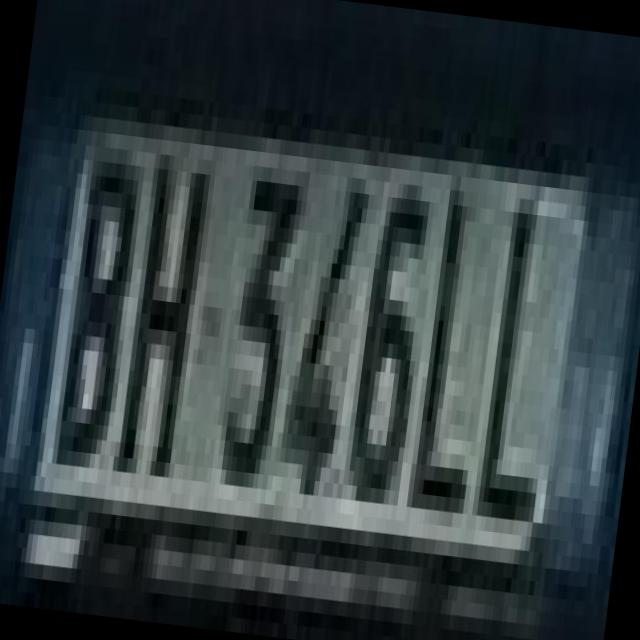3: (193, 119, 320, 476)
4: (263, 128, 385, 484)
6: (328, 136, 446, 492)
B: (34, 114, 154, 456)
H: (98, 107, 226, 479)
L: (452, 151, 586, 523), (392, 144, 512, 514)
